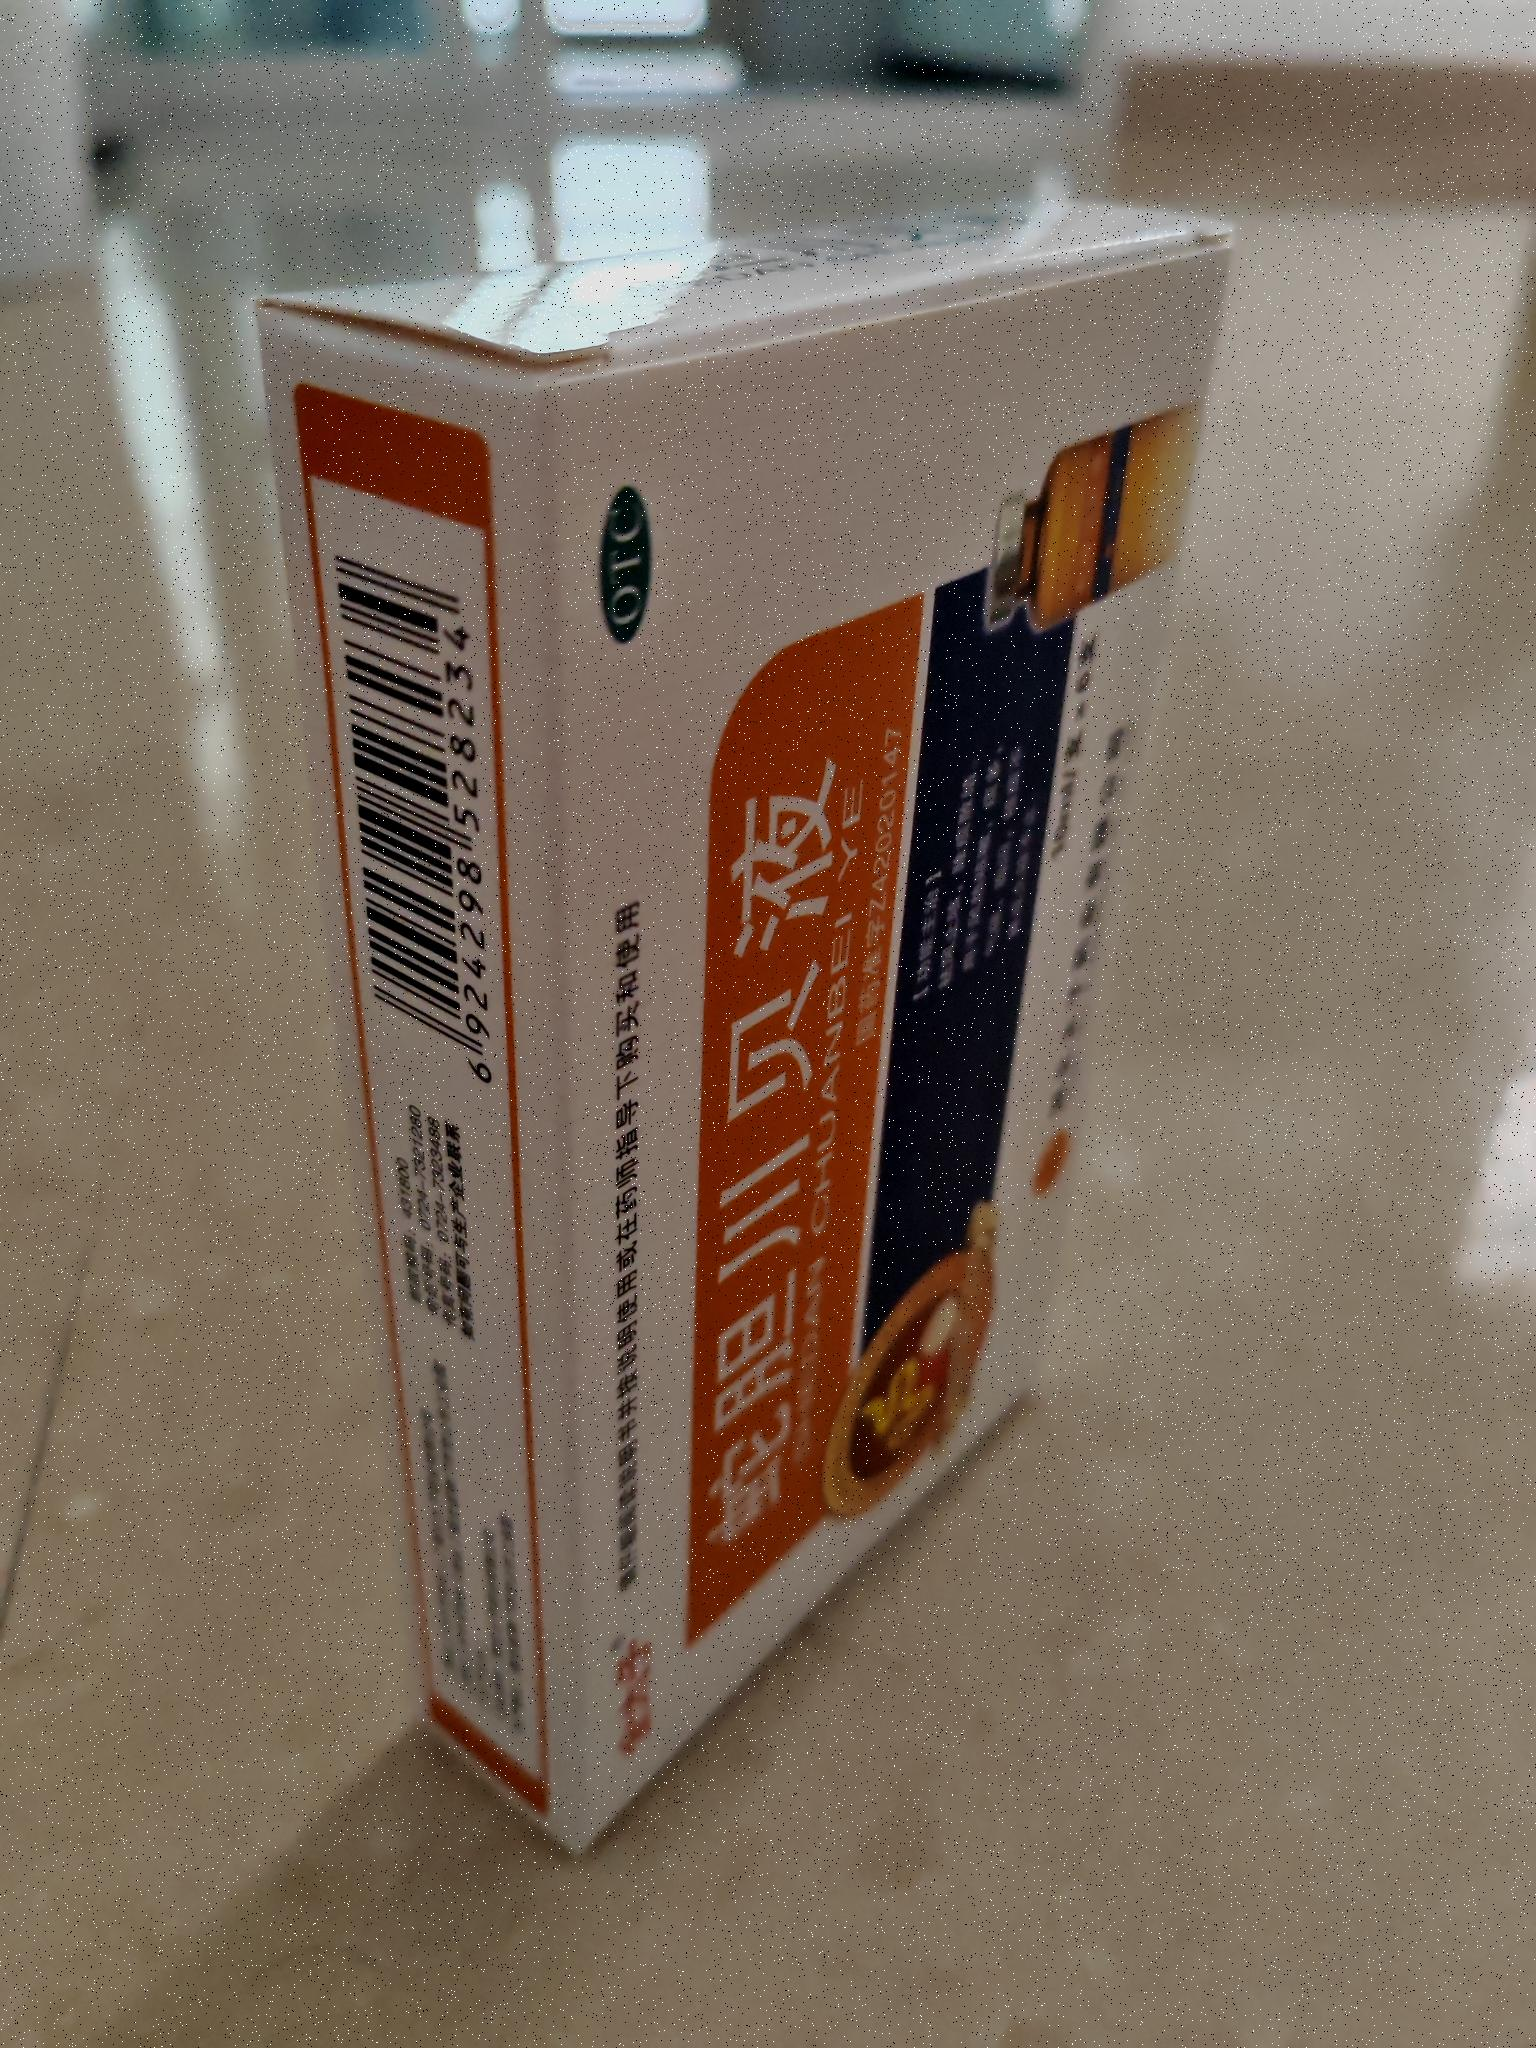Medicine5: (231, 194, 1276, 1872)
